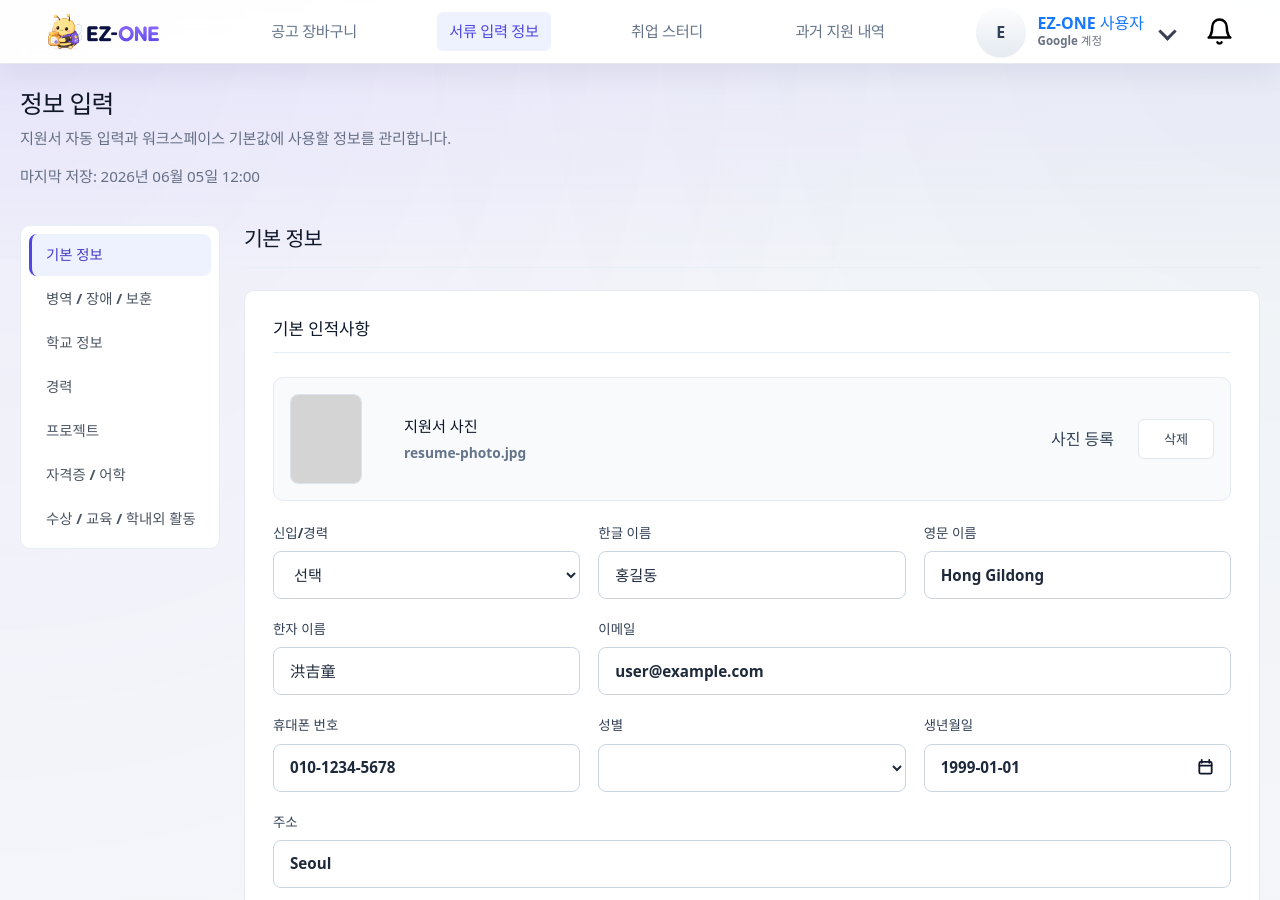
Test case: DocumentProfilePage › PROFILE-005/PROFILE-009: confirms a manual save near the save button
Type "김지원" into the field with test id "basic-info-name". click: (752, 575)
box: [598,551,906,599]
(page scrolled)
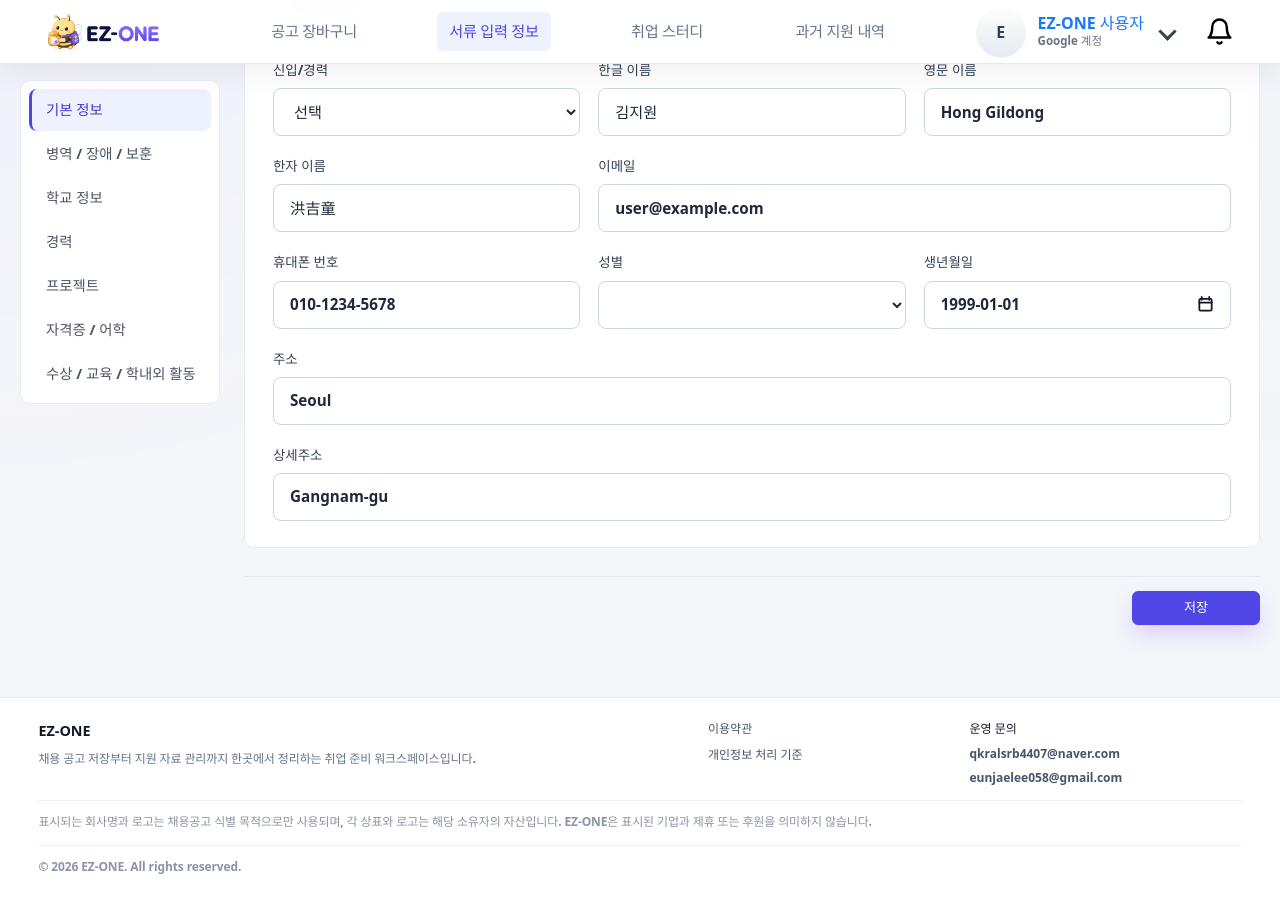
Click the button with test id "save-document-profile". click: (1196, 608)
box: [1132,591,1260,625]
(page scrolled)
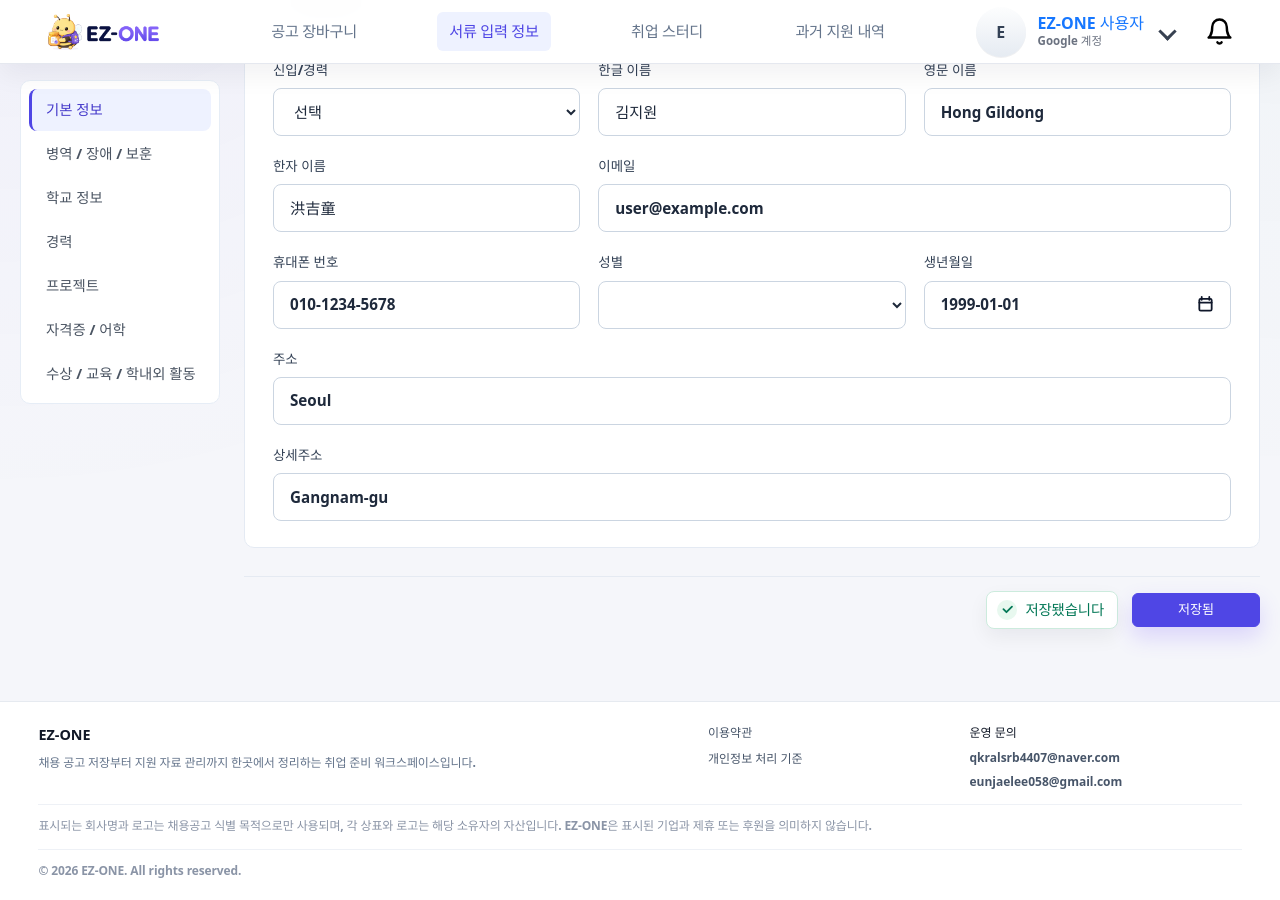
Check: the button with test id "save-document-profile" reads "저장됨", box [1132,593,1260,627]
Check: the element with test id "document-save-feedback" reads "저장됐습니다", box [1025,600,1104,619]
